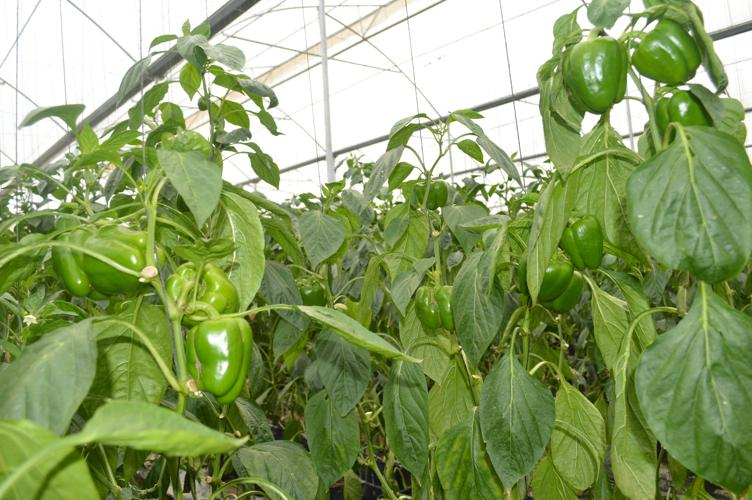BellPepper: (184, 316, 251, 404), (83, 226, 161, 294), (565, 37, 627, 111), (163, 263, 236, 319), (632, 23, 696, 85), (516, 250, 569, 301), (50, 227, 87, 298), (649, 91, 712, 132), (560, 218, 601, 272), (412, 285, 456, 331), (550, 276, 582, 312), (298, 276, 327, 305)
